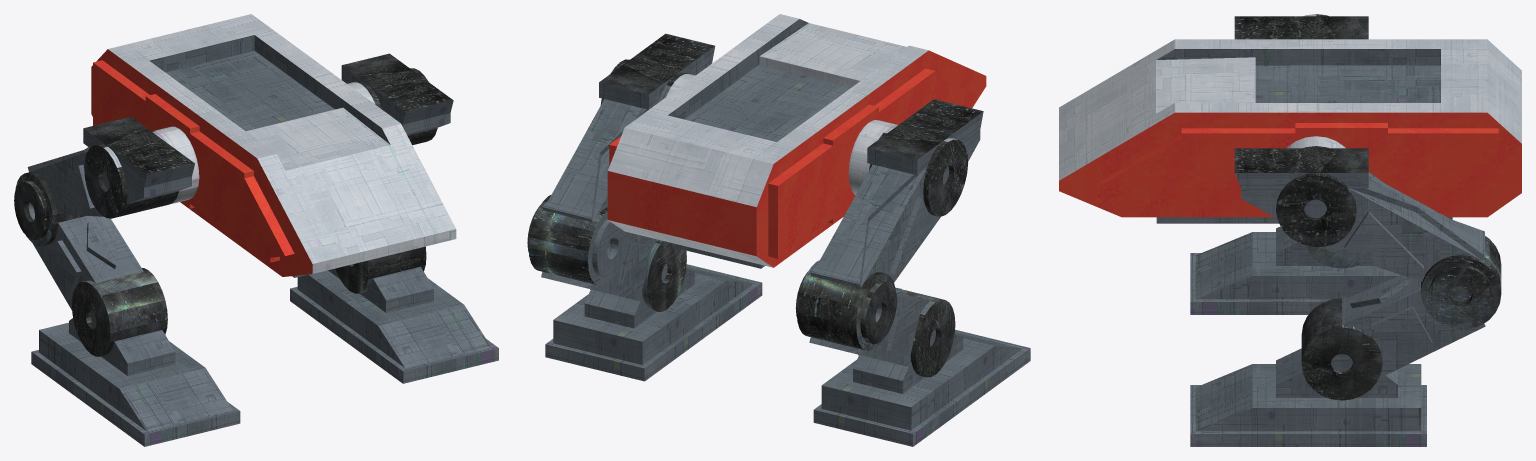
File: 人形机甲Robotman[载具]贴图版.fbx
The picture shows the model from 3 angles, left to right: view 1: azimuth 30°, elevation 25°; view 2: azimuth 150°, elevation 25°; view 3: azimuth 270°, elevation 25°; orthographic projection. The views are drawn at different scales.
Parts seen in each view (by area): view 1: Group5, Group3, Group4, Group2, Group1; view 2: Group5, Group3, Group1, Group4, Group2; view 3: Group5, Group1, Group2, Group4, Group3.
Boxes of the visible parts, x1,y1,x2,y2 form: Group5: (91, 14, 456, 277); Group3: (14, 116, 199, 375); Group4: (31, 322, 240, 446); Group2: (290, 270, 498, 383); Group1: (328, 53, 453, 312); Group5: (607, 14, 986, 268); Group3: (795, 99, 983, 393); Group1: (527, 33, 715, 328); Group4: (813, 329, 1030, 446); Group2: (545, 264, 762, 381); Group5: (1059, 39, 1521, 223); Group1: (1234, 136, 1501, 400); Group2: (1190, 364, 1426, 446); Group4: (1190, 232, 1400, 314); Group3: (1234, 14, 1373, 268).
Size of the model in its own units: 3.7 by 2.68 by 4.
